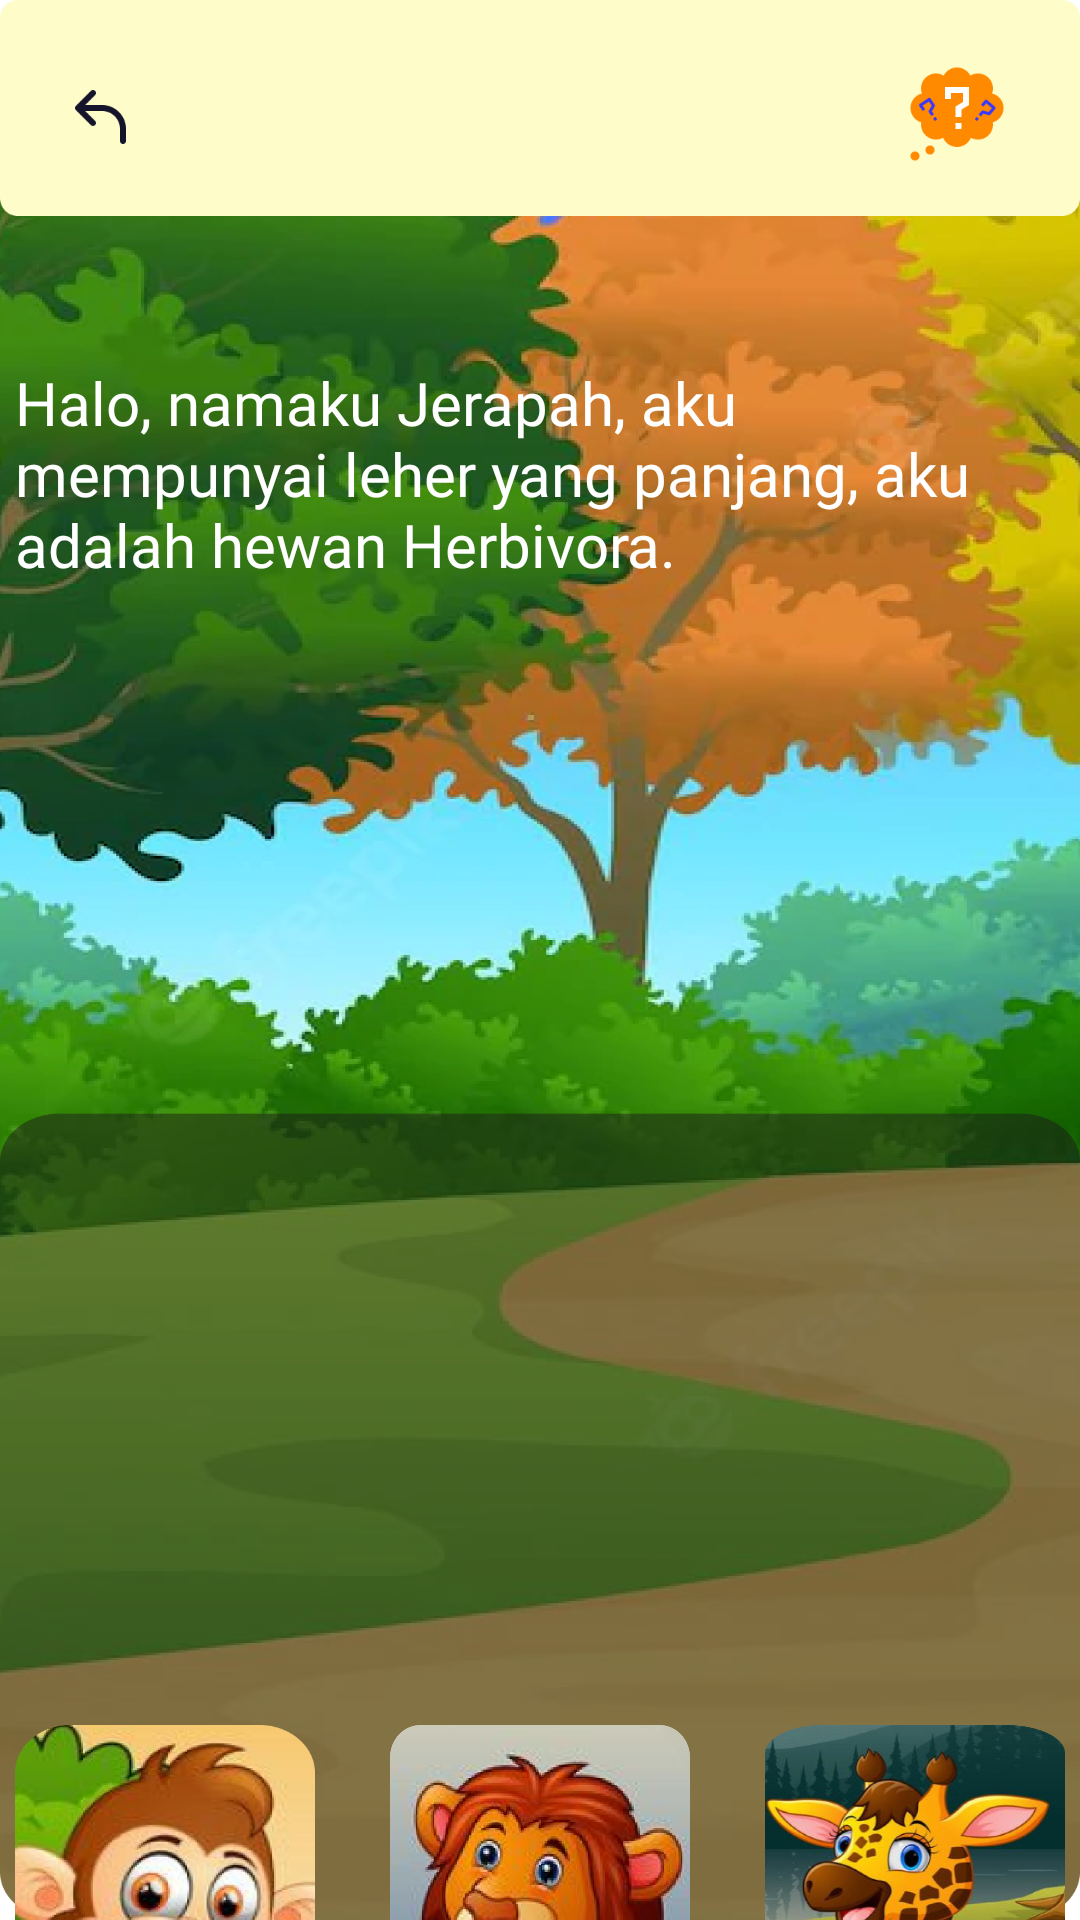

Locate icon controls on the screen. Image size 1080w x 1920h, boxes as (x1, y1, x2, y2).
back: (75, 90, 126, 144)
help: (910, 67, 1004, 161)
